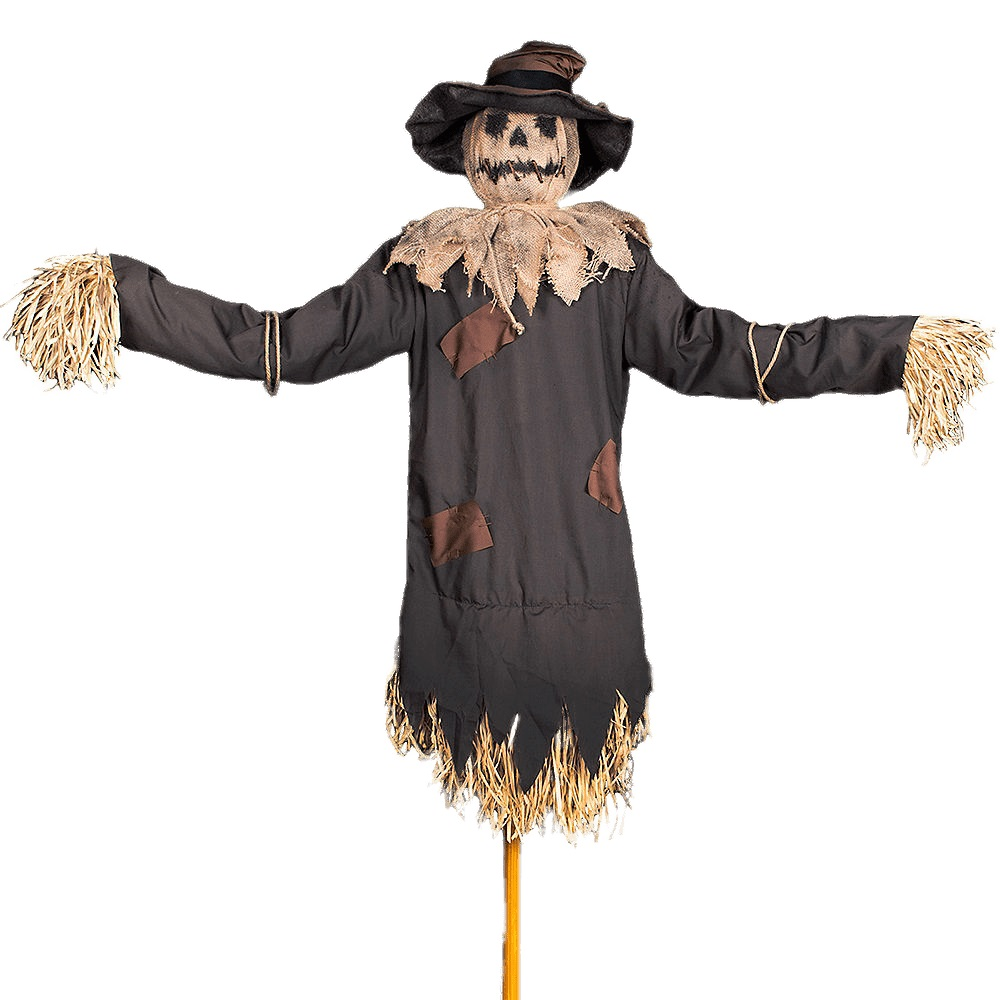person-like: (8, 35, 995, 850)
